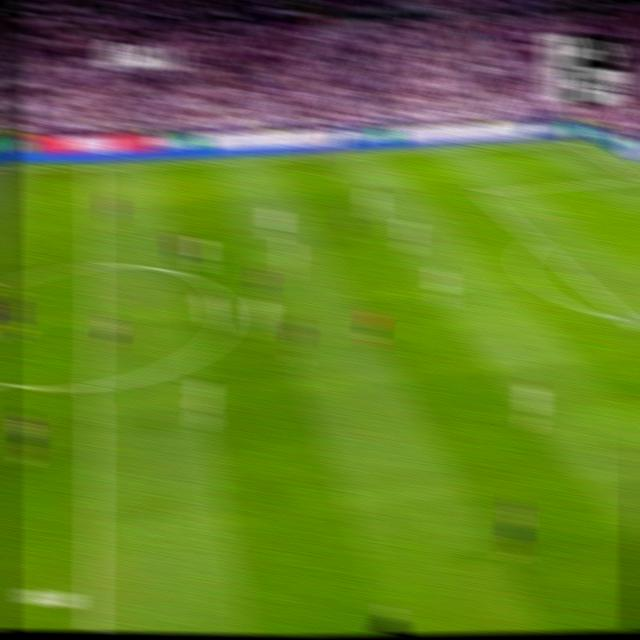bigarea_top_inner: (472, 183, 490, 200)
bigarea_top_outter: (628, 170, 640, 185)
bottom_arc_area_intersection: (614, 307, 635, 327)
corner: (564, 134, 582, 146)
halfcircle_bottom: (81, 368, 105, 400)
halfcircle_top: (81, 250, 104, 279)
midline_top_intersection: (82, 160, 102, 175)
top_arc_area_intersection: (526, 232, 544, 248)
